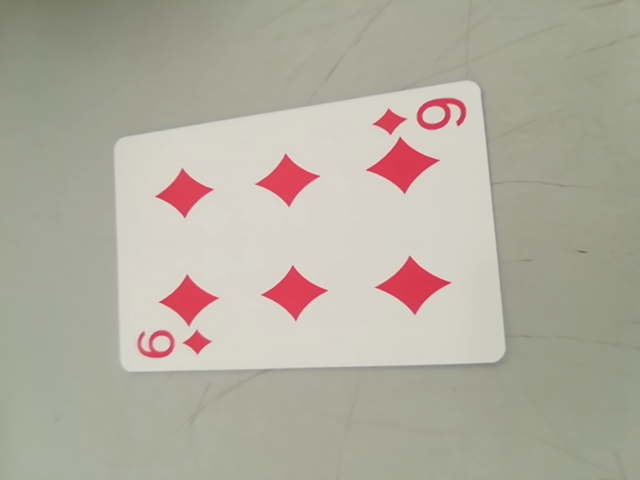fk 6: (374, 91, 470, 139), (130, 323, 217, 369)
